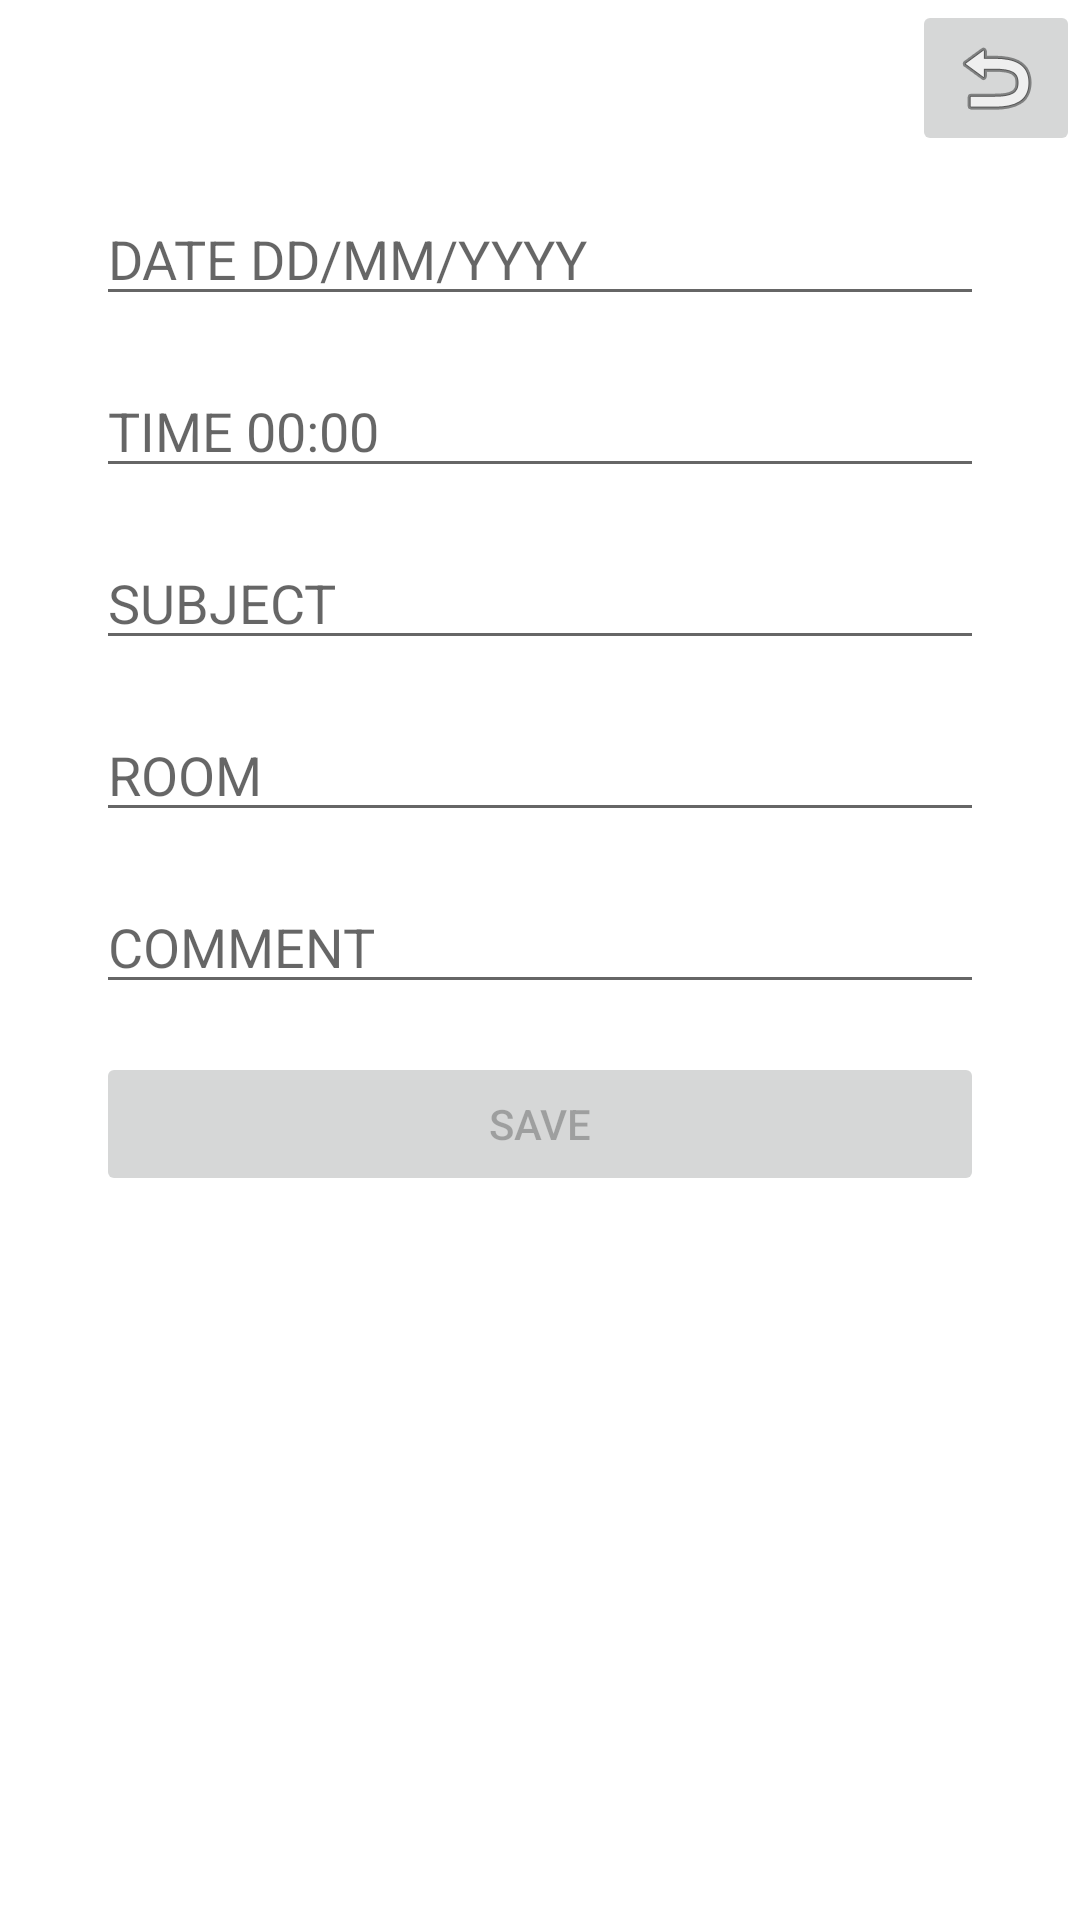

Named icons in this screenshot (1080*1920) and their bounding boxes, bbox(x1, y1, x2, y2):
revert: bbox(924, 18, 1068, 138)
